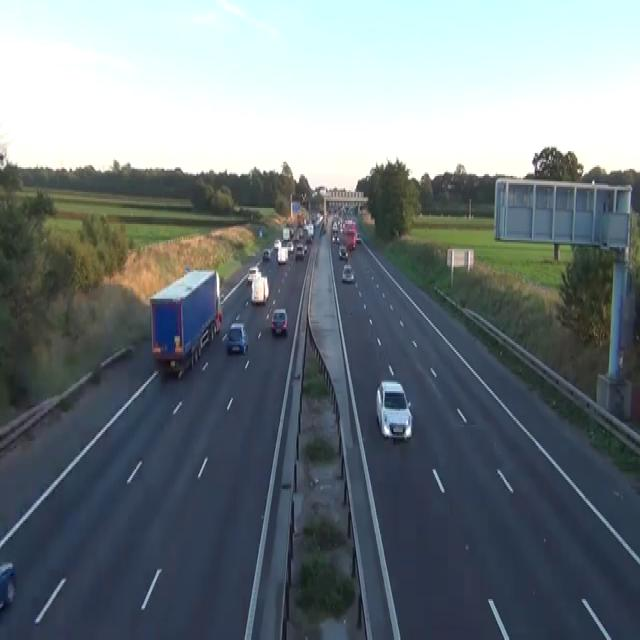Car: (375, 379, 412, 441), (0, 562, 16, 610), (226, 322, 248, 354), (271, 308, 287, 334), (341, 263, 354, 283), (247, 266, 259, 284), (338, 243, 348, 260), (295, 242, 304, 260), (215, 310, 222, 332), (262, 247, 270, 260), (273, 238, 281, 249), (286, 240, 293, 252), (300, 192, 306, 204), (331, 233, 339, 242), (355, 231, 361, 242), (303, 242, 307, 252), (259, 228, 262, 236)
Truck: (149, 266, 222, 378), (251, 276, 269, 304)
